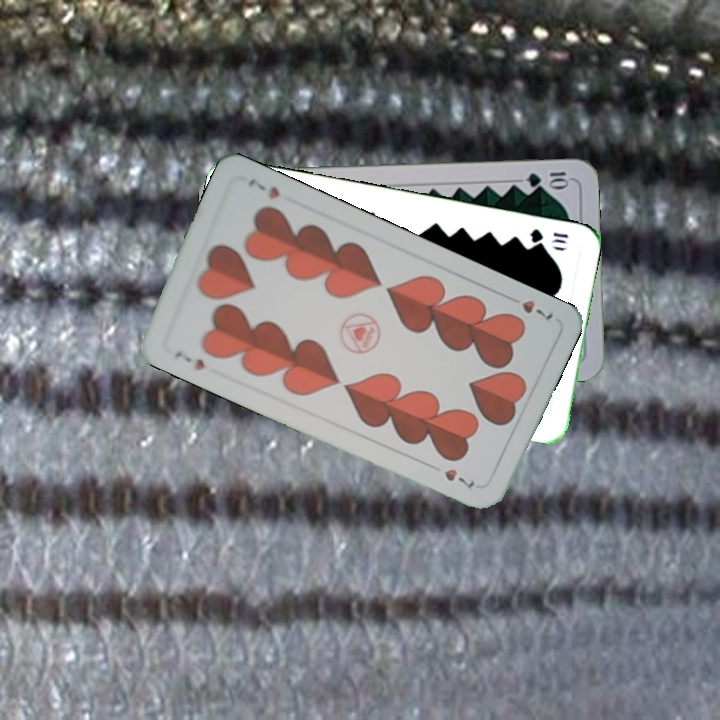G10: (522, 167, 572, 189), (526, 225, 571, 247)
H7: (502, 291, 556, 324), (170, 346, 208, 374)
